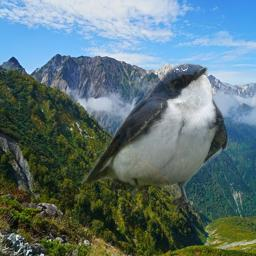Swallow: (81, 63, 229, 211)
